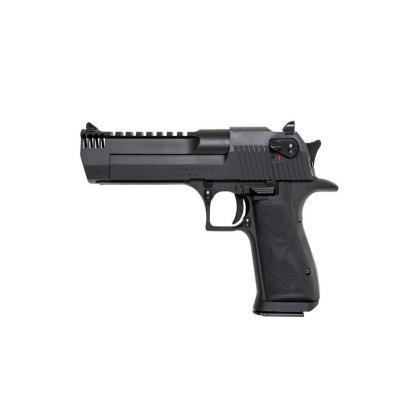Pistol: (79, 118, 340, 318)
